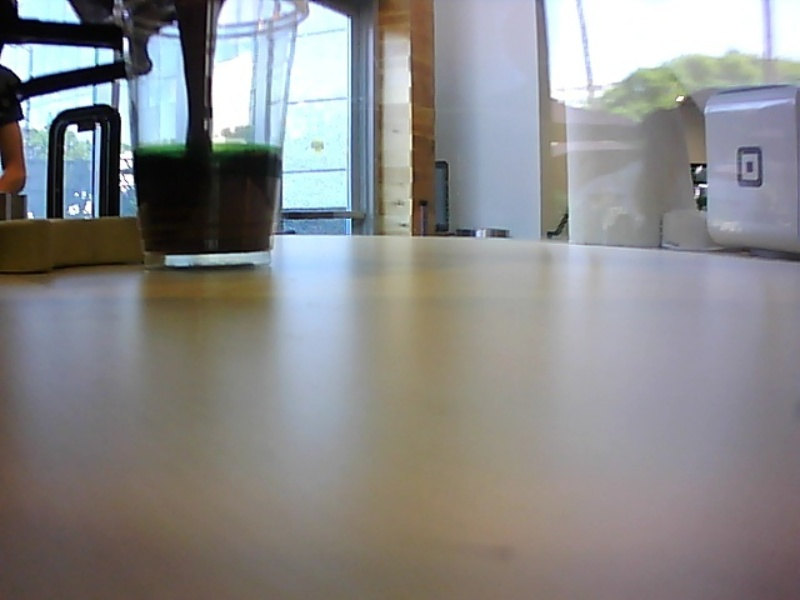cup: (113, 1, 310, 273)
limit: (131, 135, 288, 165)
